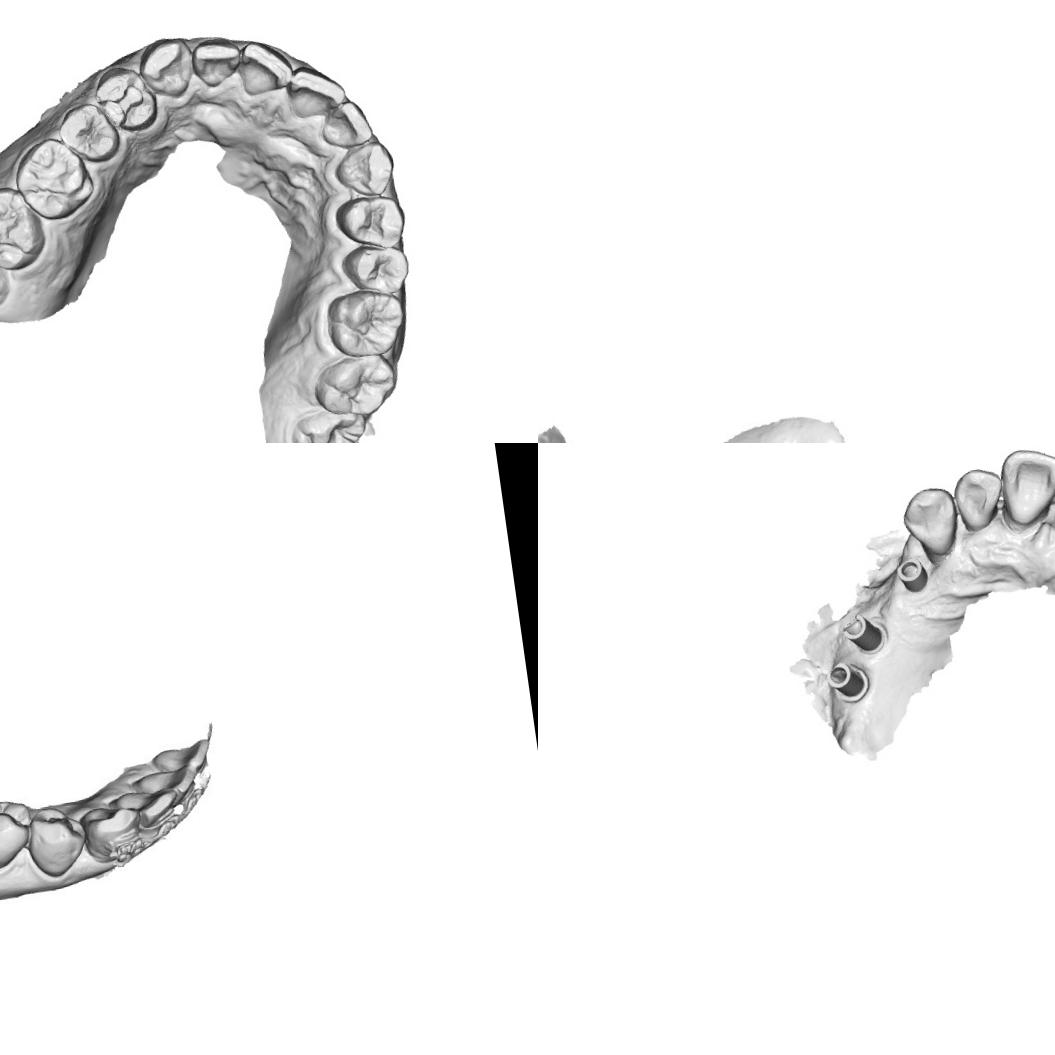canine: (898, 484, 962, 560), (328, 138, 401, 203), (79, 797, 140, 868), (133, 34, 198, 100)
implant: (822, 656, 872, 706), (837, 610, 889, 658), (893, 553, 931, 596)
incisor: (995, 443, 1055, 528), (231, 35, 297, 99), (951, 464, 1008, 534), (284, 61, 348, 122), (187, 32, 246, 92), (316, 96, 376, 154), (131, 761, 202, 807), (116, 785, 174, 831), (149, 737, 216, 774)
inlay: (92, 77, 148, 132)
molar: (7, 133, 98, 226), (319, 282, 412, 363), (307, 349, 402, 424), (0, 180, 51, 277)
premolar: (20, 795, 87, 879), (330, 190, 413, 254), (52, 98, 123, 168), (339, 237, 414, 301), (0, 793, 34, 875)
